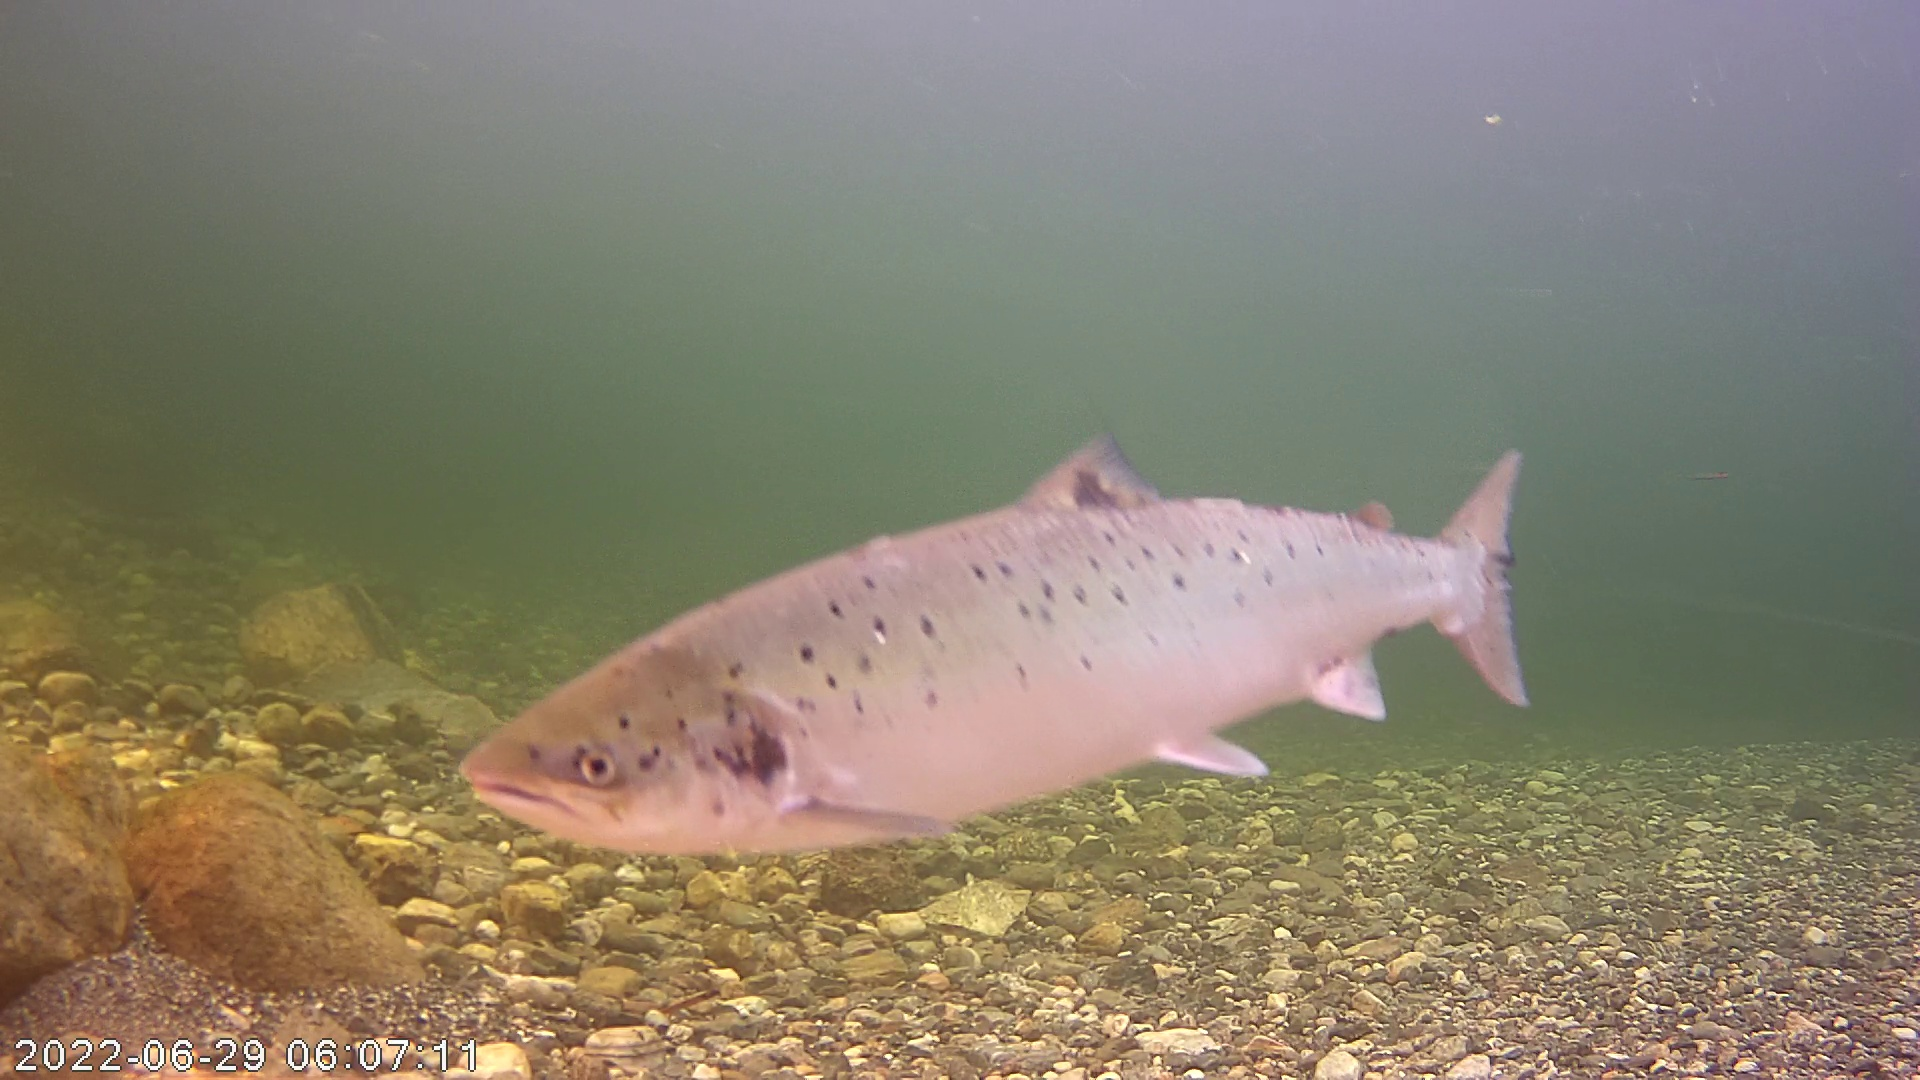salmon: (473, 359, 1535, 848)
